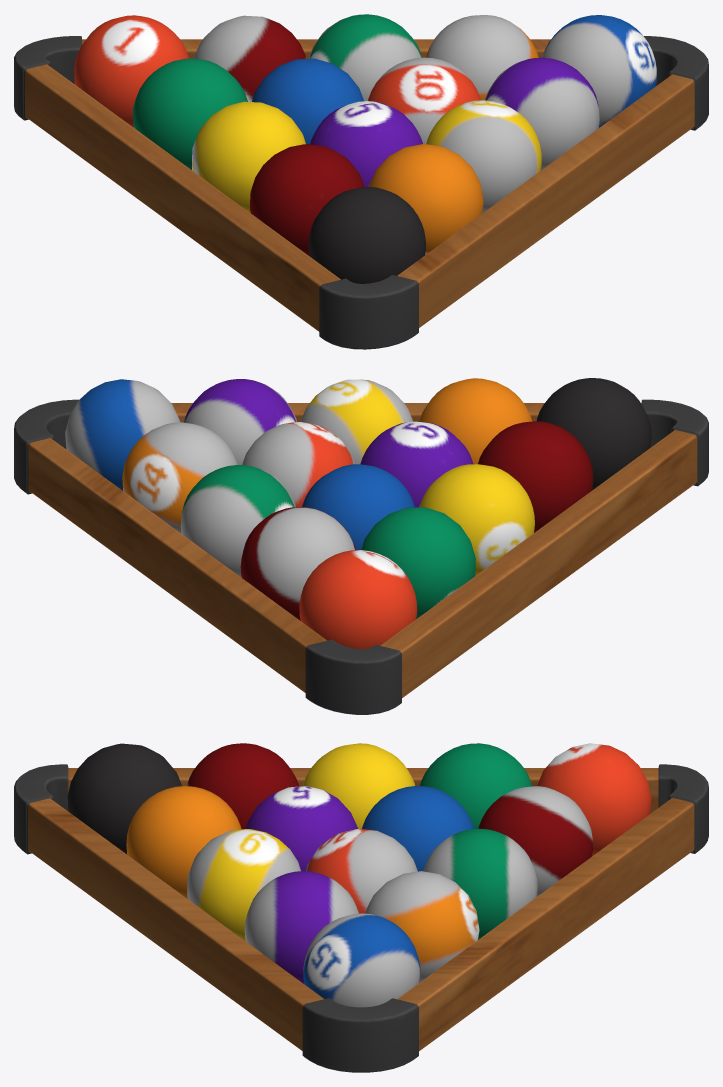
Rendered from SM_BilliardBalls_01.fbx.
3 views of the same model, one above another, from view 1: azimuth 30°, elevation 25°; view 2: azimuth 150°, elevation 25°; view 3: azimuth 270°, elevation 25° (orthographic).
Parts seen in each view (by area): view 1: SM_BilliardBalls_01_LOD0; view 2: SM_BilliardBalls_01_LOD0; view 3: SM_BilliardBalls_01_LOD0.
Part boxes in pixels (left/top/right/bottom): SM_BilliardBalls_01_LOD0: left=14, top=14, right=708, bottom=349; SM_BilliardBalls_01_LOD0: left=14, top=378, right=708, bottom=714; SM_BilliardBalls_01_LOD0: left=14, top=743, right=708, bottom=1072.
Size of the model in its own units: 46.51 by 53.18 by 8.98.
1 material, 1 textured.
